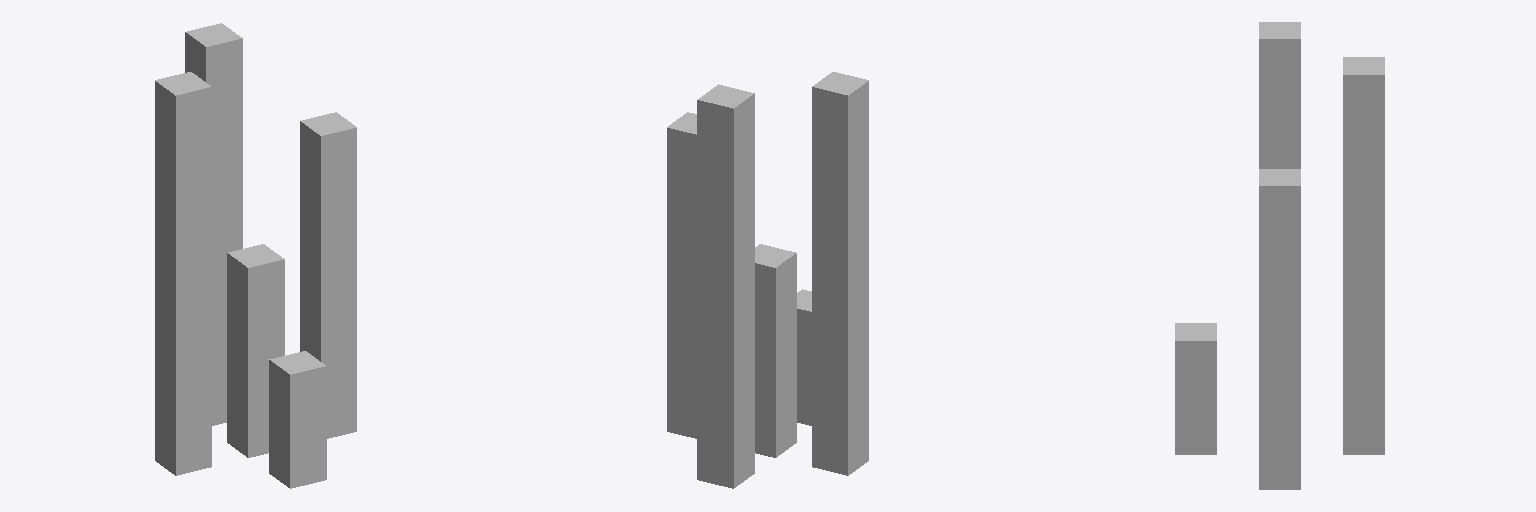
The model's file is grass.obj.
3 views of the same model, side by side, from view 1: azimuth 30°, elevation 25°; view 2: azimuth 150°, elevation 25°; view 3: azimuth 270°, elevation 25° (orthographic).
Visible parts, largest first — view 1: object 1; view 2: object 1; view 3: object 1.
Boxes of the visible parts, x1=… form: object 1: x1=155, y1=23, x2=356, y2=488; object 1: x1=667, y1=72, x2=868, y2=488; object 1: x1=1175, y1=22, x2=1384, y2=489.
Bounding box in the file's own units: 0.5 × 1 × 0.5.